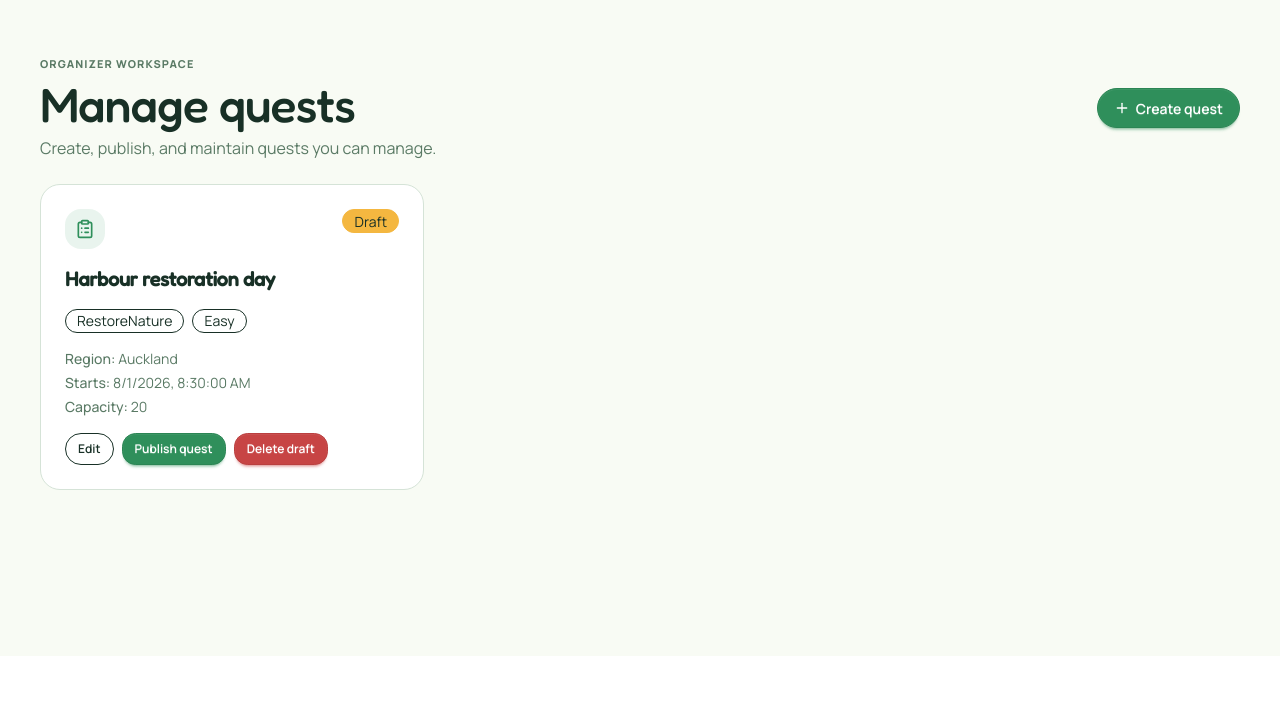
Test: Organizer Quest list › confirms publish, sends the row version through apiFetch, and refreshes the list
Click the button "Publish quest".
click(174, 449)  # box 122,433 -> 226,465
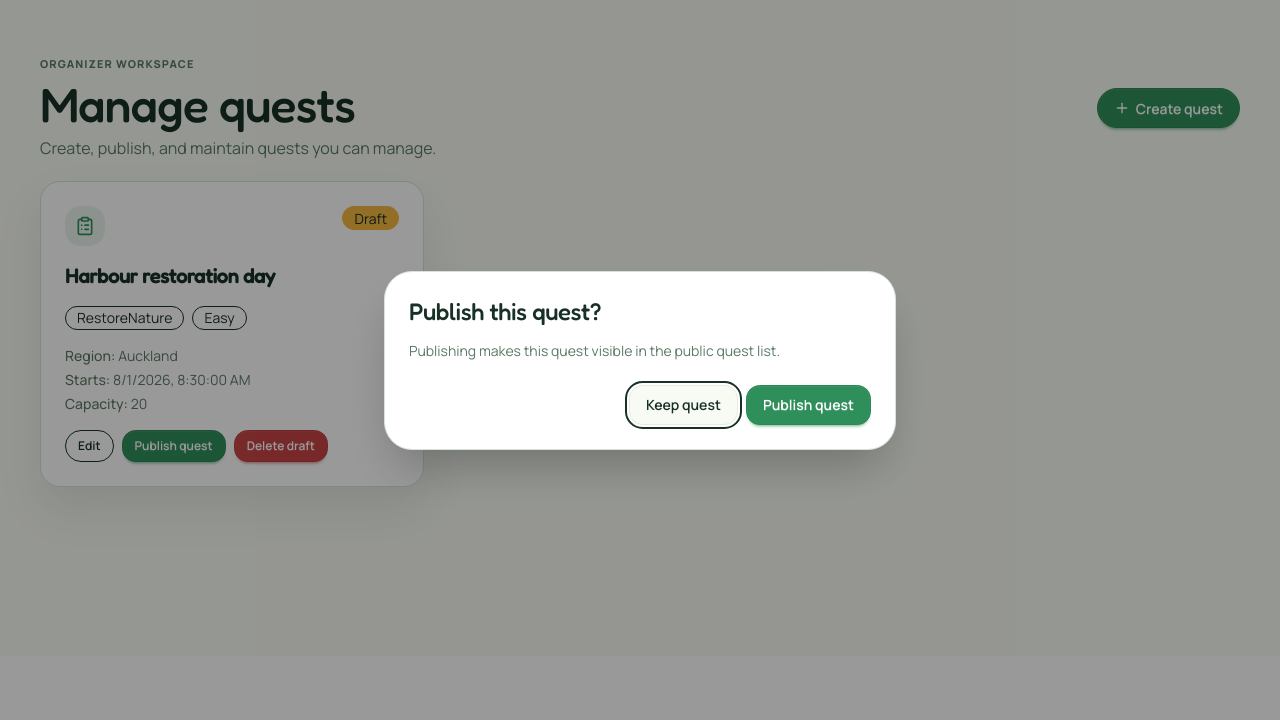
Expected: the heading "Publish this quest?" is shown, 409,296 -> 601,326
Click the button "Publish quest".
click(808, 404)  # box 746,384 -> 871,424
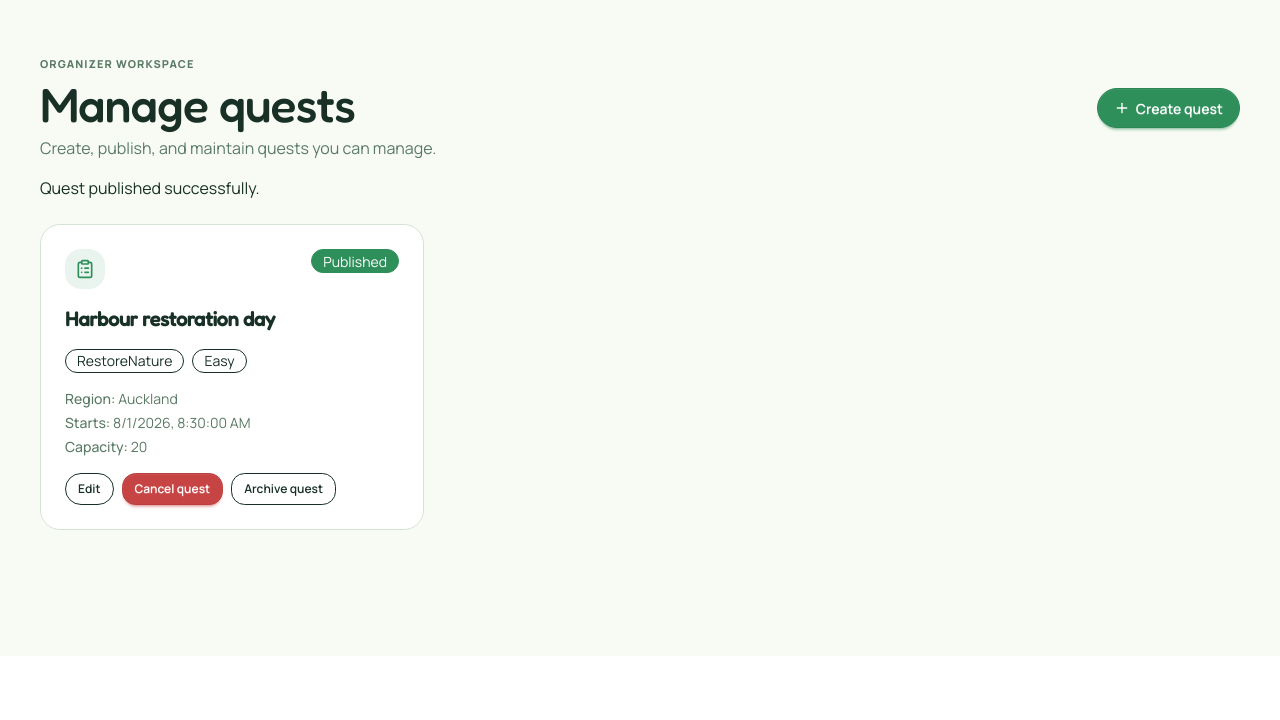
Expected: the text "Quest published successfully." is shown, 40,177 -> 260,199
